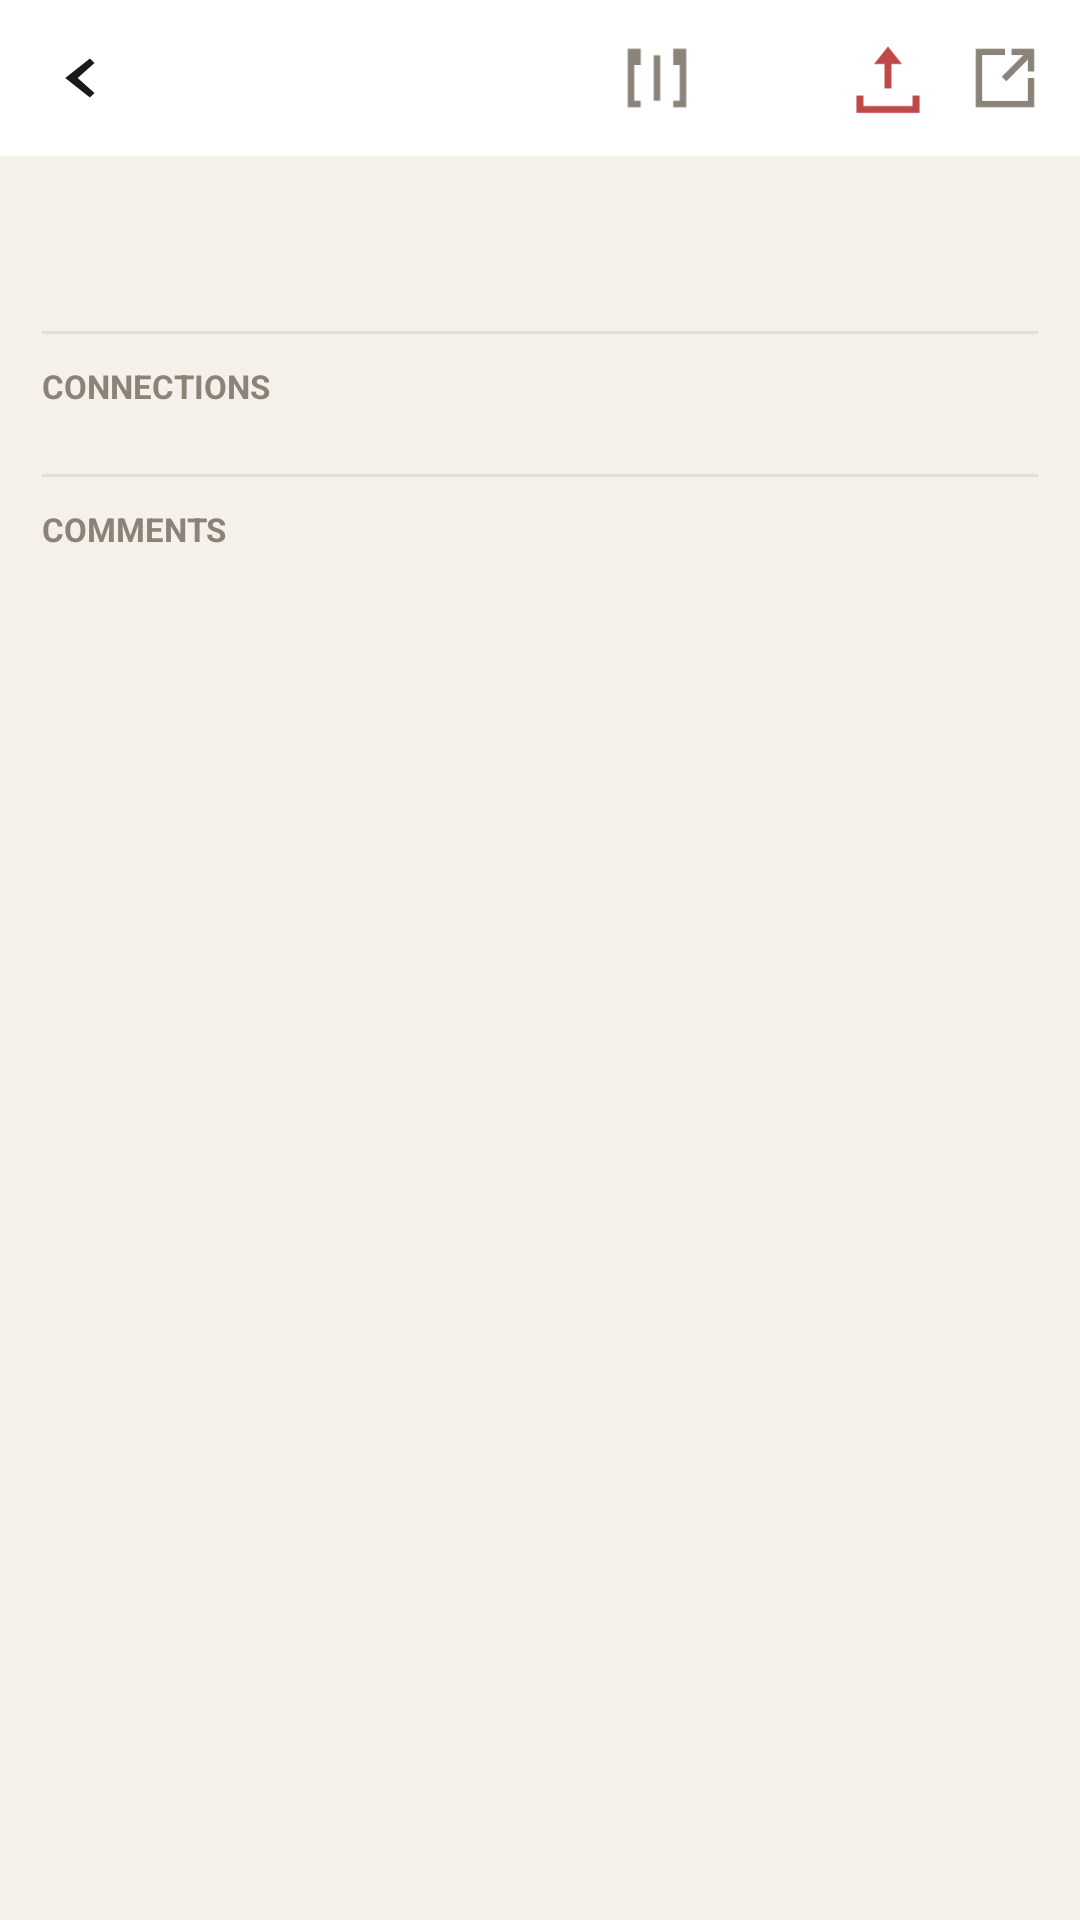

Screen size 1080w x 1920h. Icon name, then its box in pixels as rect(x1, y1, x2, y2):
back: rect(65, 58, 95, 98)
external: rect(975, 48, 1035, 108)
